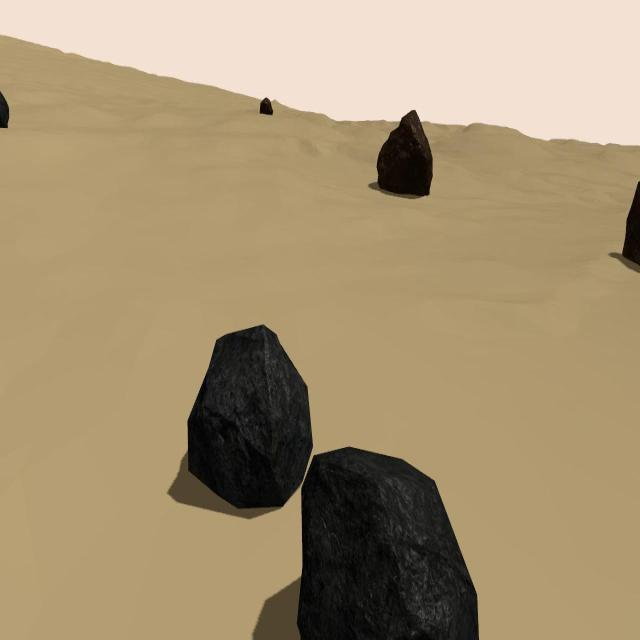rock: (296, 445, 478, 640), (188, 326, 314, 508), (377, 108, 432, 198), (623, 181, 640, 265), (0, 91, 9, 129), (260, 97, 273, 115)
